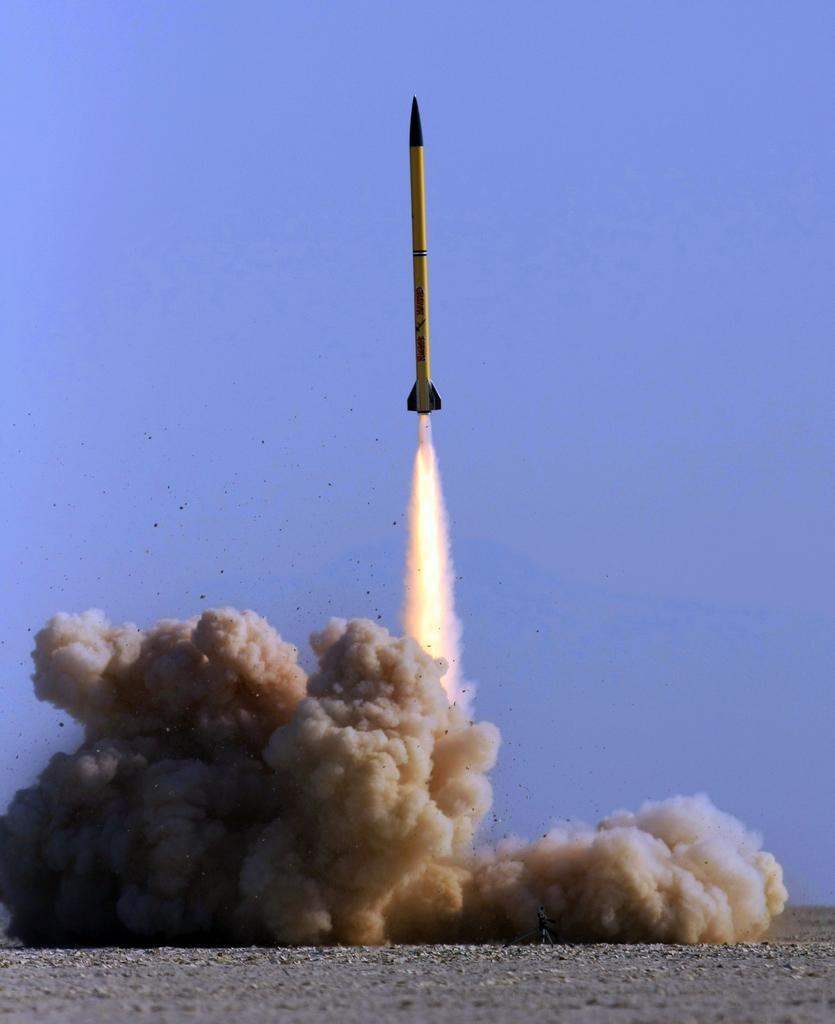Missile: (403, 95, 445, 415)
